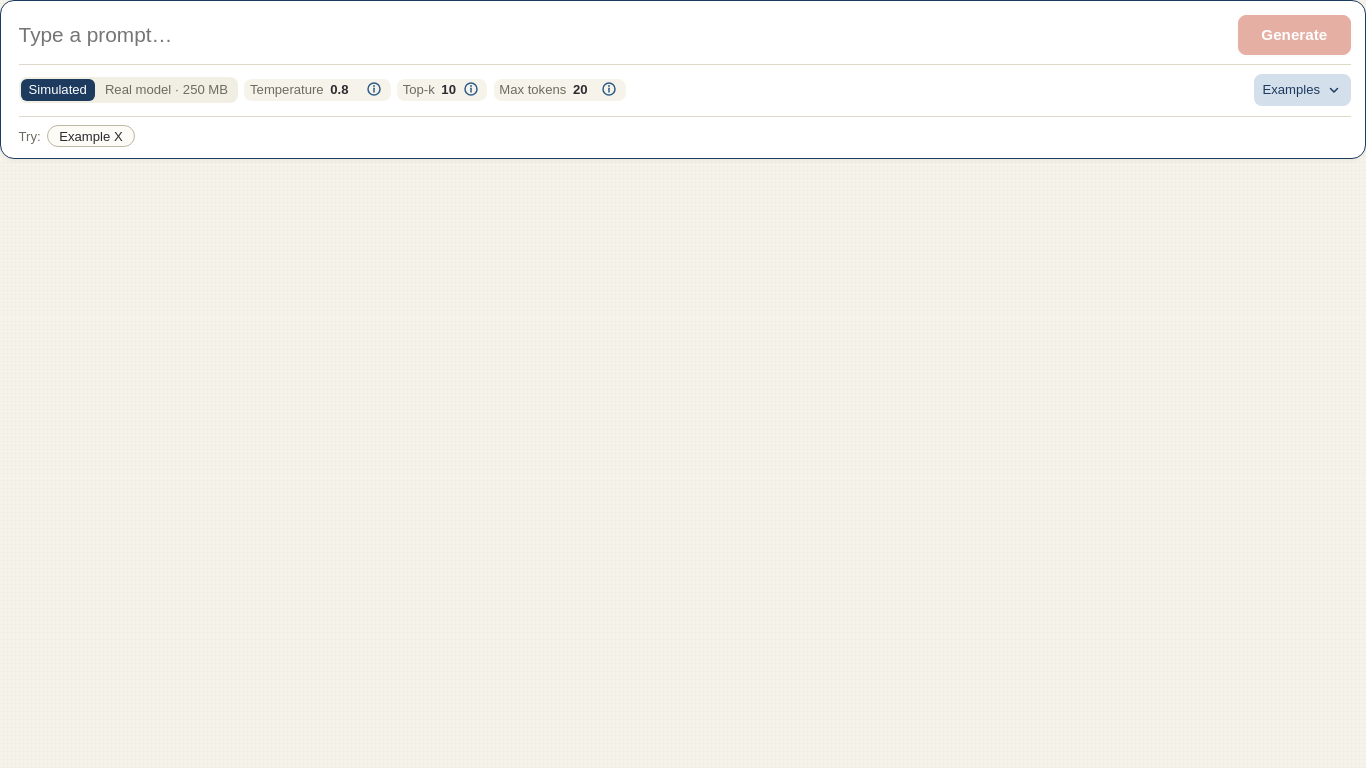
Test: the examples row is open with no runs and closes after the first Generate
This screenshot has width=1366, height=768.
Expected: the element with test id "examples-row" is shown, [19,116,1351,147]
Type "Hi" into the field with test id "prompt-input" at (623, 35), box [19,15,1227,55]
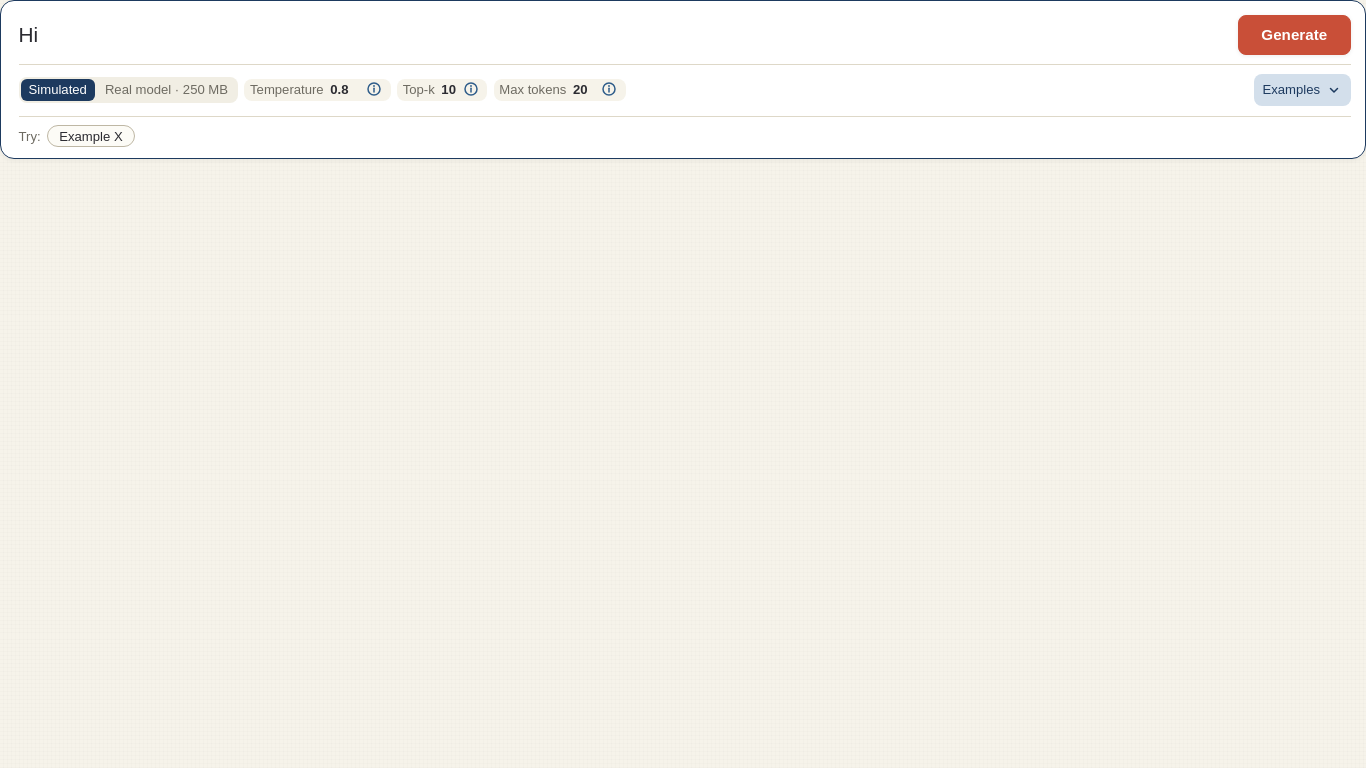
Click the button with test id "btn-generate" at (1294, 35), box [1238,15,1351,55]
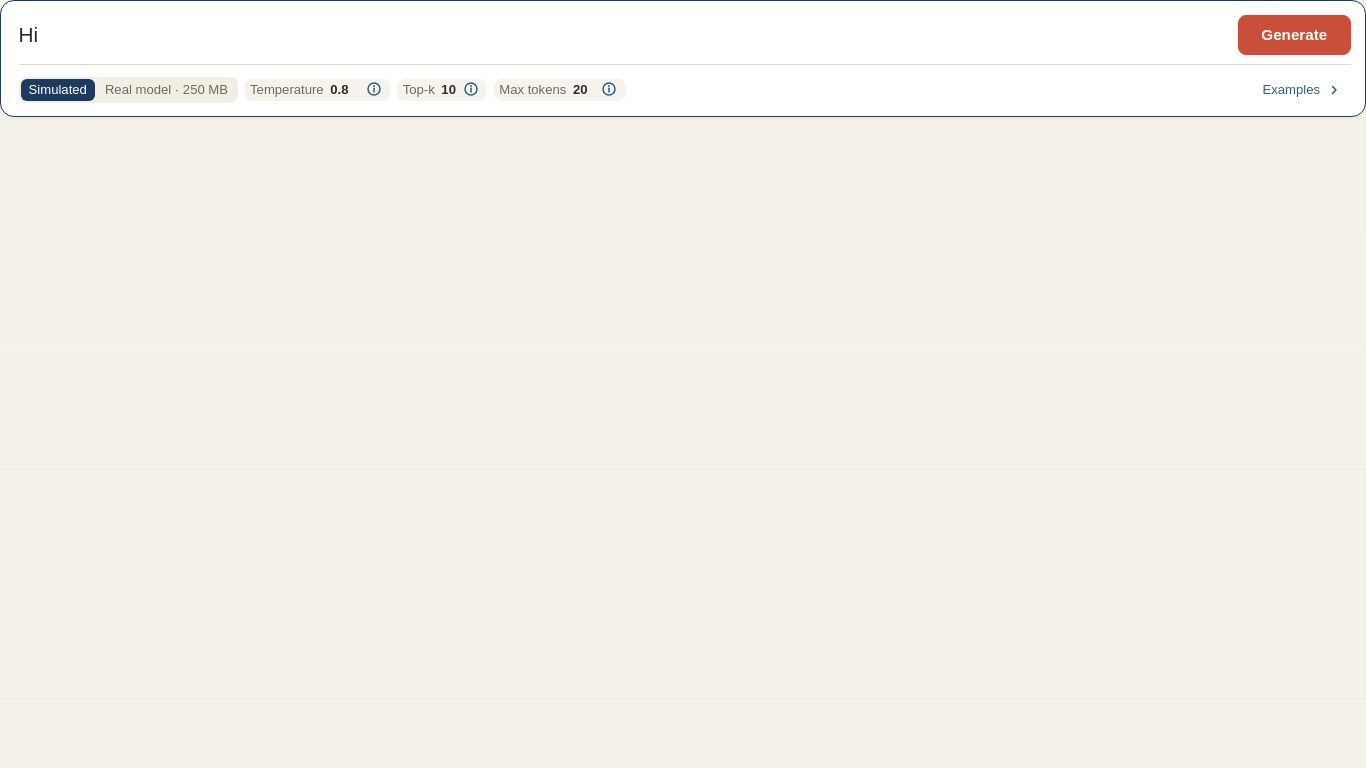
Expected: the element with test id "examples-row" is gone
